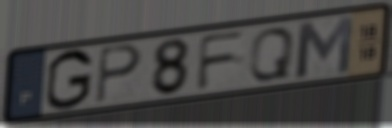8: (151, 36, 193, 97)
F: (195, 27, 250, 93)
G: (44, 47, 96, 113)
M: (294, 14, 355, 81)
P: (94, 43, 145, 107)
Q: (246, 25, 297, 83)
